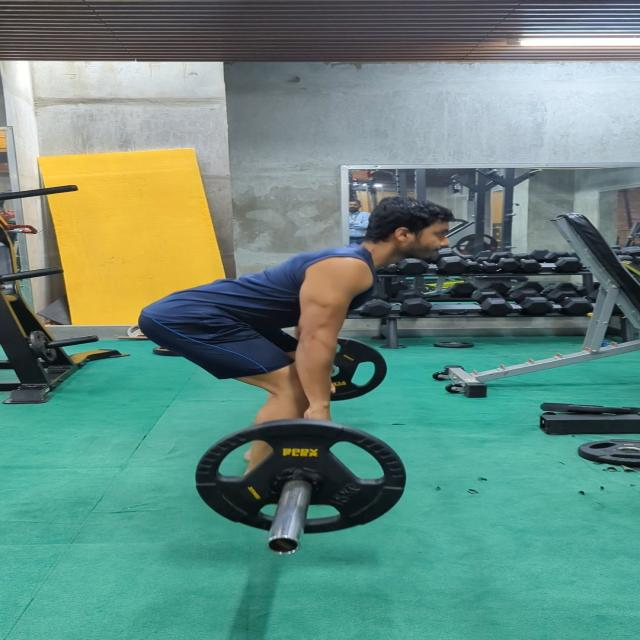Normal_Deadlifts: (139, 196, 457, 502)
